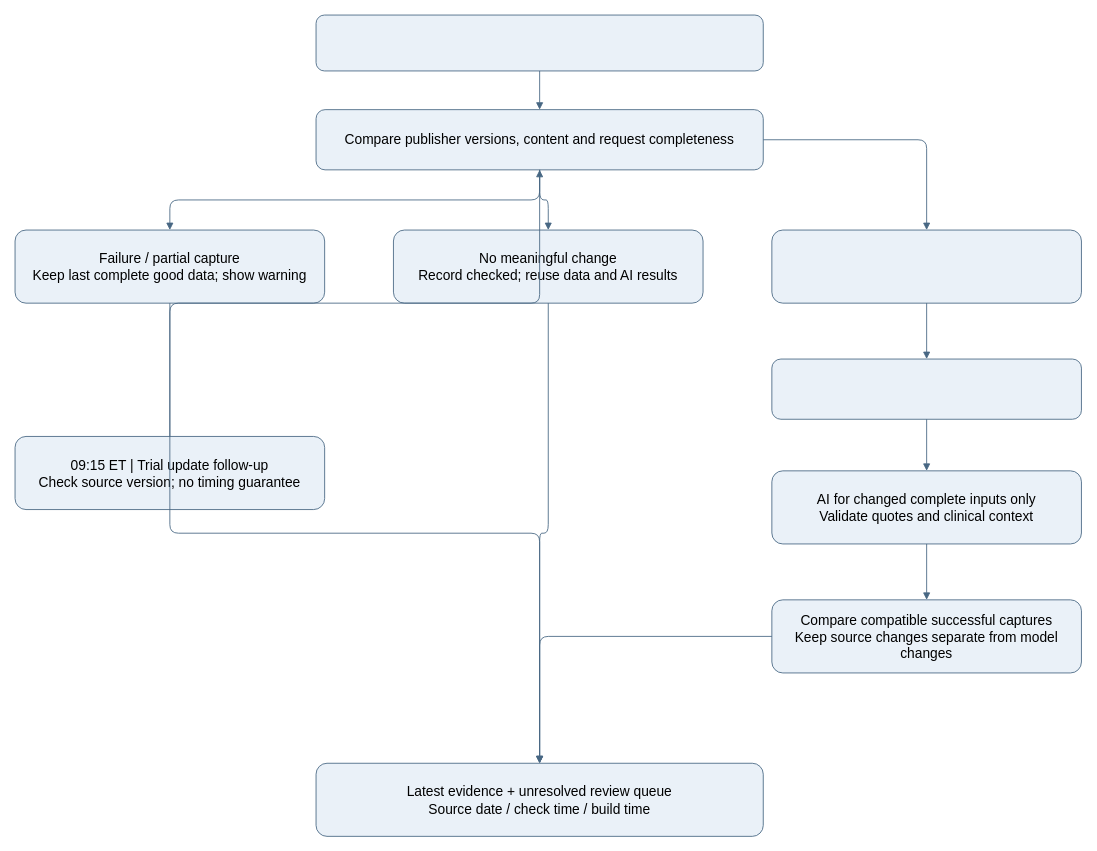
Image size: 1097x851. Some labels were removed from this diagram. The centre of each missing label's shape, as x and y in pixels:
"06:00 ET | Proposed daily source check" belongs at point 539,42.
"Changed source / configuration Save immutable evidence and clean affected rows" belongs at point 926,266.
"Rejoin current identity and reference context" belongs at point 926,388.
